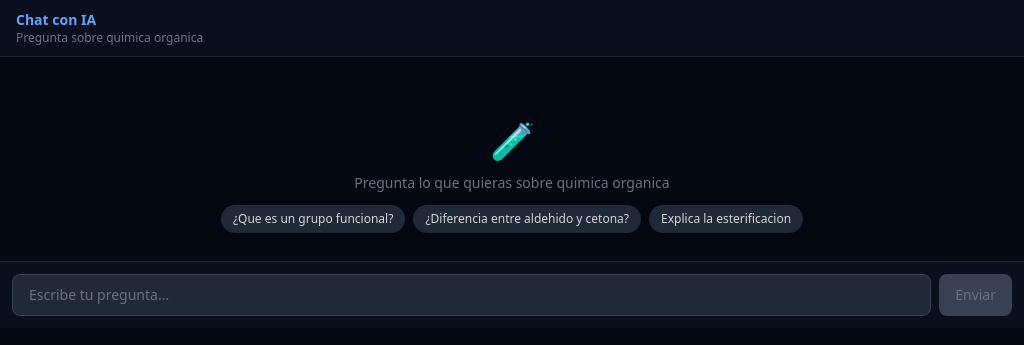
it: Chat › handles error when json parsing fails
In the field with placeholder "Escribe tu pregunta...": (472, 295) [12,274,931,316], type "test"
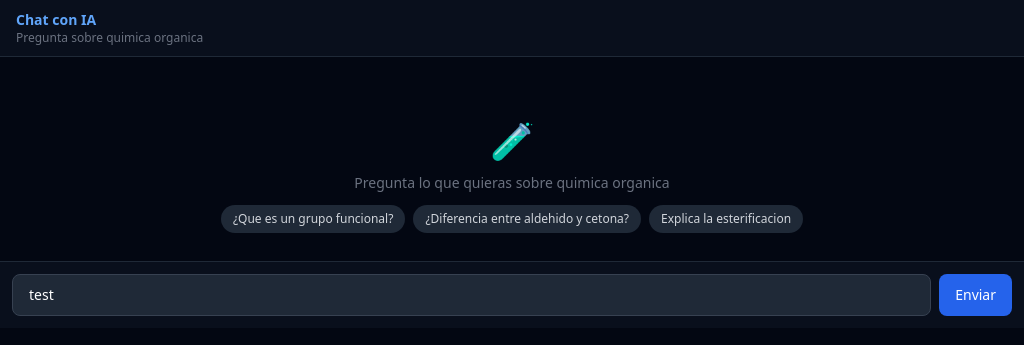
Submit the form with placeholder "Escribe tu pregunta...", box [0,261,1023,328]
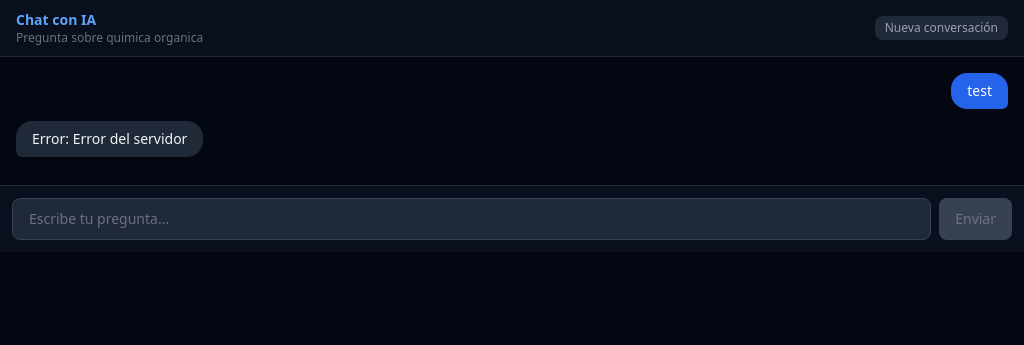
Now the text "Error: Error del servidor" is shown, box [32,129,187,149]
